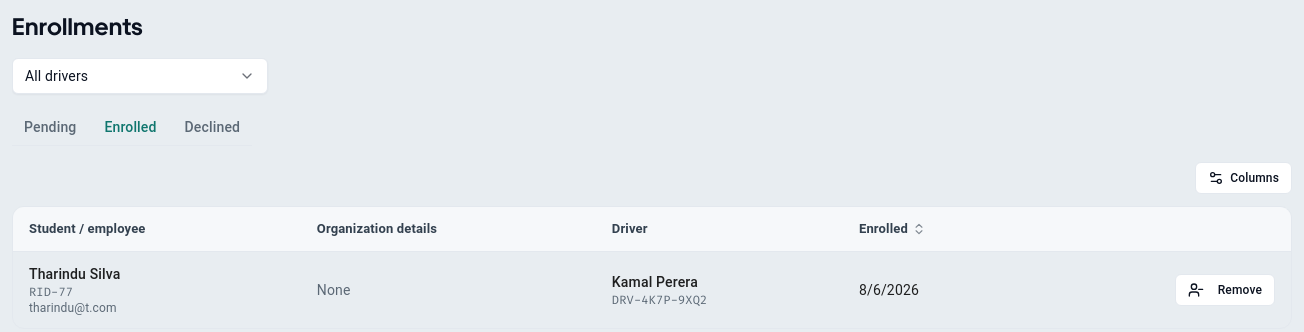
ManagerRequestsPage › the enrolled roster › lists each driver with their vehicle plate, and one without
Click the dropdown named "filter by driver or vehicle": (140, 76) [12,58,268,94]
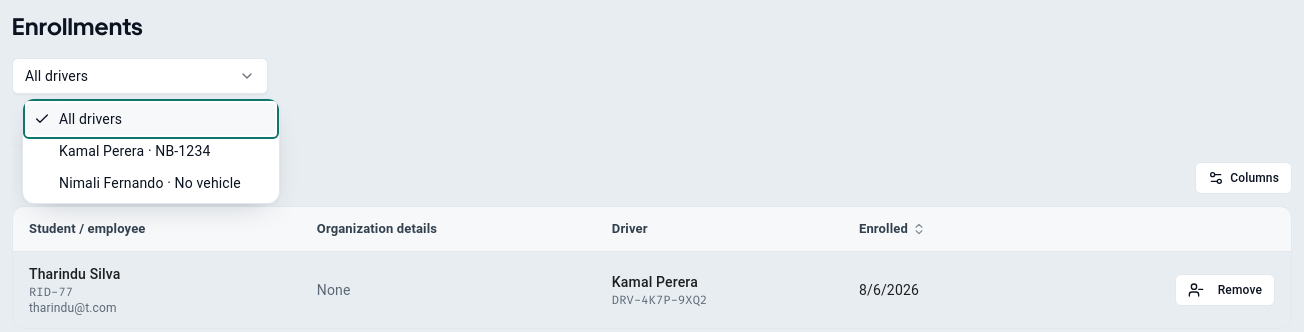
Check: the option "Kamal Perera · NB-1234" is shown, box [59,143,210,159]
Check: the option "Nimali Fernando · No vehicle" is shown, box [59,175,241,191]
Check: the option "All drivers" is shown, box [27,103,275,135]
